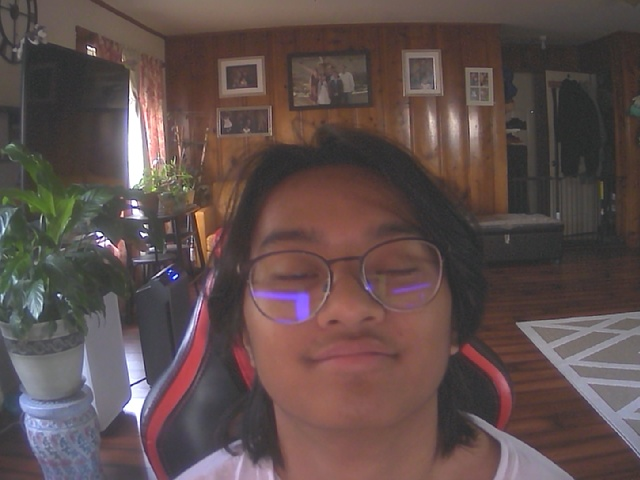happy: (236, 148, 467, 436)
